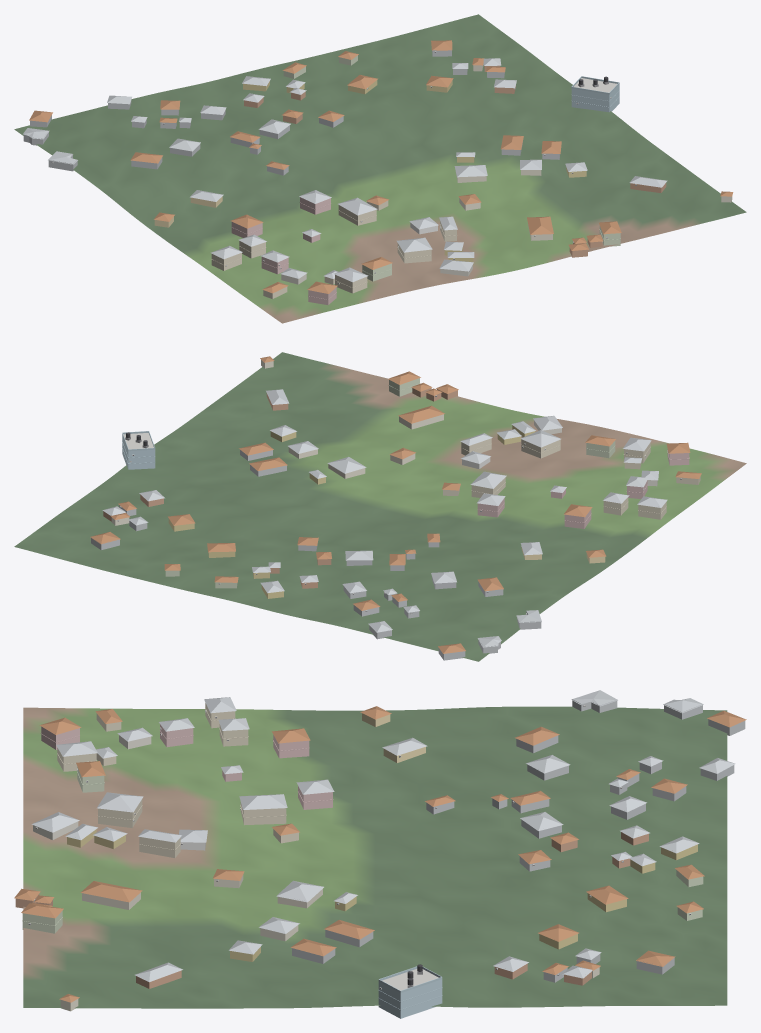
3 views of the same model, one above another, from view 1: azimuth 30°, elevation 25°; view 2: azimuth 150°, elevation 25°; view 3: azimuth 270°, elevation 25° (orthographic). The views are drawn at different scales.
Parts seen in each view (by area): view 1: Terrain-col, Buildings-col, Details; view 2: Terrain-col, Buildings-col, Details; view 3: Terrain-col, Buildings-col, Details.
Boxes of the visible parts, x1=… form: Terrain-col: x1=14, y1=14, x2=746, y2=323; Buildings-col: x1=23, y1=40, x2=733, y2=304; Details: x1=51, y1=51, x2=636, y2=299; Terrain-col: x1=14, y1=352, x2=746, y2=661; Buildings-col: x1=90, y1=356, x2=701, y2=660; Details: x1=117, y1=383, x2=689, y2=614; Terrain-col: x1=23, y1=706, x2=727, y2=1008; Buildings-col: x1=14, y1=690, x2=746, y2=1018; Details: x1=22, y1=705, x2=691, y2=1009.
Bounding box in the file's own units: 273 × 15.03 × 267.
